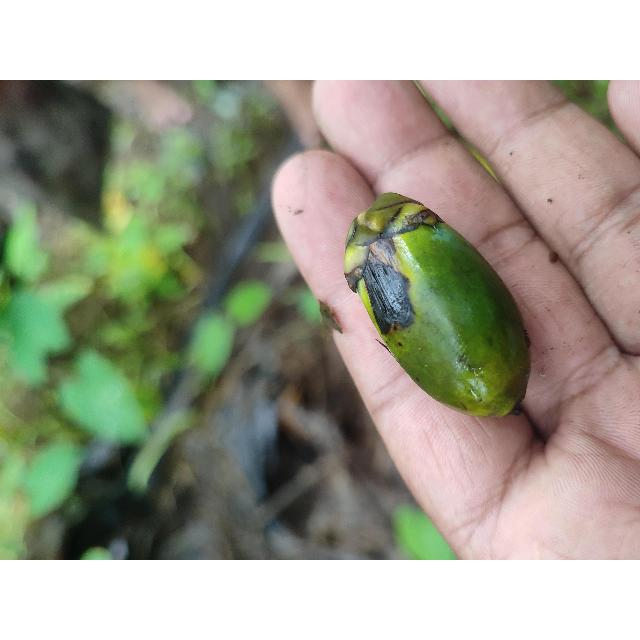good: (343, 193, 531, 419)
